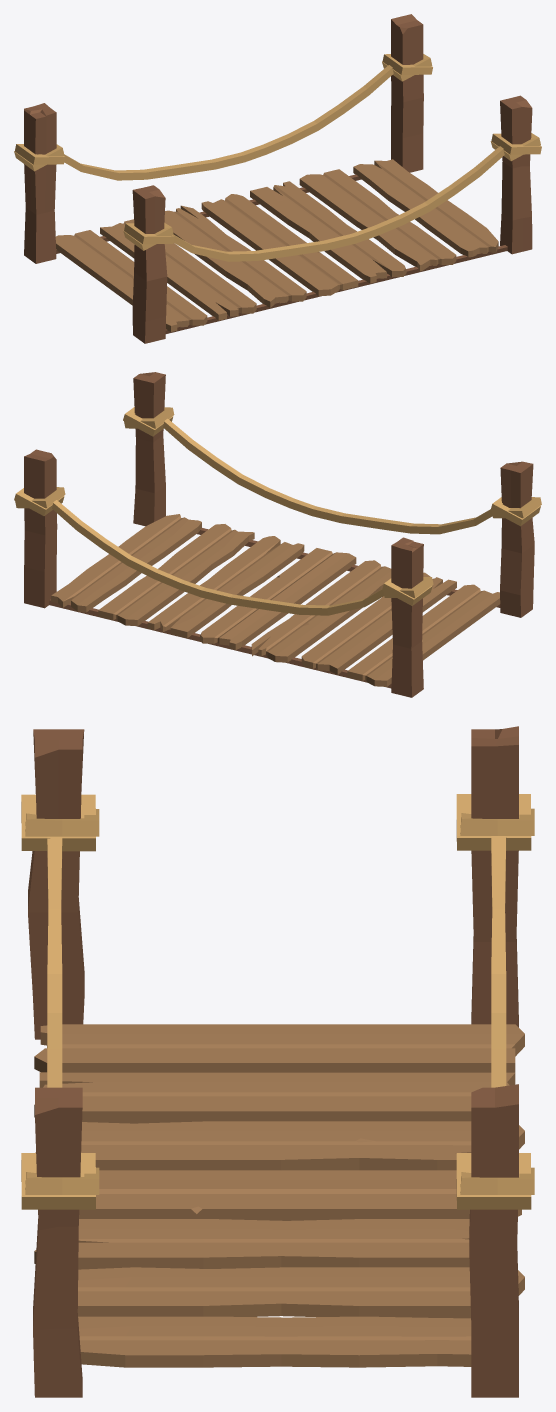
The model's file is Puente.fbx.
The picture shows the model from 3 angles, top to bottom: view 1: azimuth 30°, elevation 25°; view 2: azimuth 150°, elevation 25°; view 3: azimuth 270°, elevation 25°; orthographic projection. The views are drawn at different scales.
Parts seen in each view (by area): view 1: Stakes.002, Stakes.001, Cube.003, Cube.005, Cube.004, Cube.006, Cube.002, Cube, Cube.001, Stakes; view 2: Stakes.002, Stakes.001, Cube.003, Cube.005, Cube.004, Cube.006, Cube.002, Cube, Cube.001, Stakes; view 3: Stakes.002, Cube, Cube.001, Stakes.001, Cube.006, Cube.005, Cube.004, Cube.002, Cube.003.
Part boxes in pixels (<box>): Stakes.002: <box>24,14,532,343</box>; Stakes.001: <box>14,54,541,261</box>; Cube.003: <box>201,194,358,296</box>; Cube.005: <box>299,169,456,271</box>; Cube.004: <box>250,181,406,283</box>; Cube.006: <box>353,159,498,257</box>; Cube.002: <box>164,205,306,307</box>; Cube: <box>55,230,207,331</box>; Cube.001: <box>100,219,256,320</box>; Stakes: <box>56,174,507,333</box>; Stakes.002: <box>24,372,534,697</box>; Stakes.001: <box>14,407,541,615</box>; Cube.003: <box>199,548,356,649</box>; Cube.005: <box>98,524,254,626</box>; Cube.004: <box>147,536,304,638</box>; Cube.006: <box>51,514,201,612</box>; Cube.002: <box>251,560,391,662</box>; Cube: <box>347,584,500,686</box>; Cube.001: <box>301,572,456,674</box>; Stakes: <box>49,528,500,688</box>; Stakes.002: <box>28,726,518,1397</box>; Cube: <box>34,1024,524,1072</box>; Cube.001: <box>34,1072,515,1123</box>; Stakes.001: <box>21,794,534,1209</box>; Cube.006: <box>78,1316,471,1367</box>; Cube.005: <box>77,1267,524,1318</box>; Cube.004: <box>34,1219,469,1269</box>; Cube.002: <box>35,1121,524,1170</box>; Cube.003: <box>79,1170,521,1220</box>.
Bounding box in the file's own units: 808 × 284 × 449.
